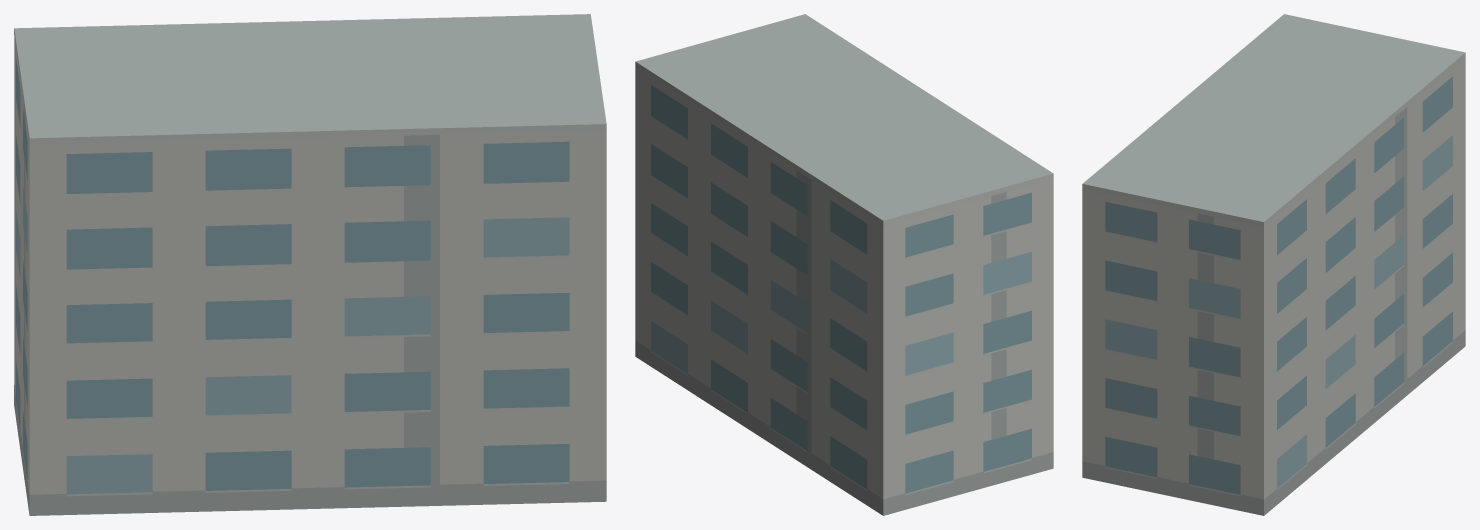
File: survey-upis-32885221.glb
The picture shows the model from 3 angles, left to right: view 1: azimuth 30°, elevation 25°; view 2: azimuth 150°, elevation 25°; view 3: azimuth 270°, elevation 25°; orthographic projection. The views are drawn at different scales.
Parts seen in each view (by area): view 1: survey-upis-32885221.tmp; view 2: survey-upis-32885221.tmp; view 3: survey-upis-32885221.tmp.
Boxes of the visible parts, <box> form: survey-upis-32885221.tmp: <box>14,14,606,515</box>; survey-upis-32885221.tmp: <box>635,14,1053,515</box>; survey-upis-32885221.tmp: <box>1082,14,1465,515</box>.
Bounding box in the file's own units: 21.12 × 13.9 × 16.44.
